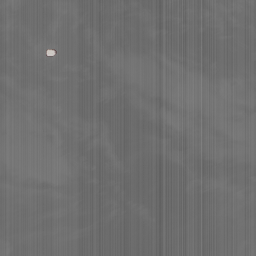Target: (45, 46, 58, 58)
